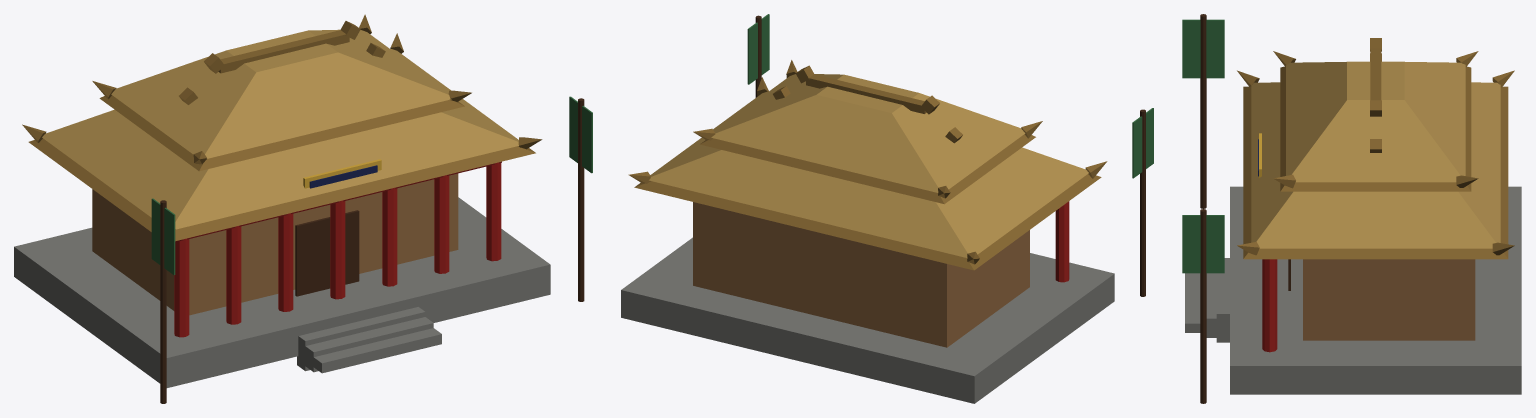
File: SM_GZ_town_hall_green.fbx
3 views of the same model, side by side, from view 1: azimuth 30°, elevation 25°; view 2: azimuth 150°, elevation 25°; view 3: azimuth 270°, elevation 25° (orthographic). The views are drawn at different scales.
Parts seen in each view (by area): view 1: SM_GZ_town_hall_green; view 2: SM_GZ_town_hall_green; view 3: SM_GZ_town_hall_green.
Boxes of the visible parts, left/top/right/bottom form: SM_GZ_town_hall_green: left=14, top=14, right=592, bottom=403; SM_GZ_town_hall_green: left=621, top=14, right=1153, bottom=403; SM_GZ_town_hall_green: left=1182, top=14, right=1521, bottom=403.
Size of the model in its own units: 1764 by 1022 by 1280.
